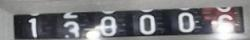digits: (170, 8, 206, 39), (212, 6, 239, 38), (96, 16, 124, 37), (131, 13, 158, 32), (62, 20, 80, 37), (27, 17, 37, 37)
